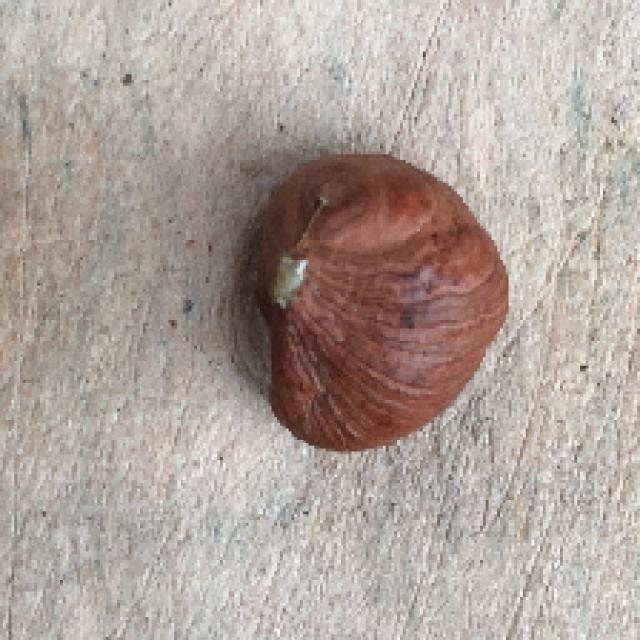hazelnut: (225, 146, 507, 453)
